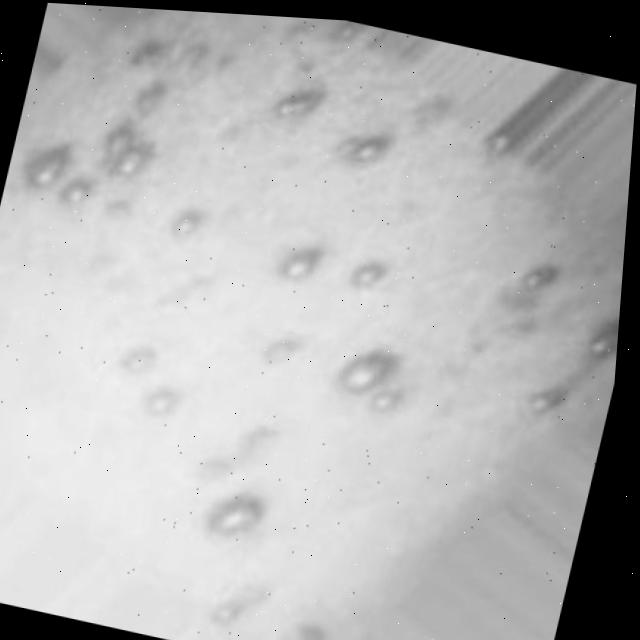Shingles: (335, 342, 397, 398), (97, 124, 154, 184), (204, 488, 263, 545), (21, 141, 73, 196), (270, 79, 326, 128), (279, 238, 327, 287), (260, 331, 303, 373), (517, 259, 559, 300), (525, 382, 567, 421), (117, 341, 159, 380), (348, 132, 387, 169), (349, 258, 386, 294), (58, 174, 95, 210), (167, 208, 201, 242), (146, 390, 172, 417), (334, 20, 361, 43)
